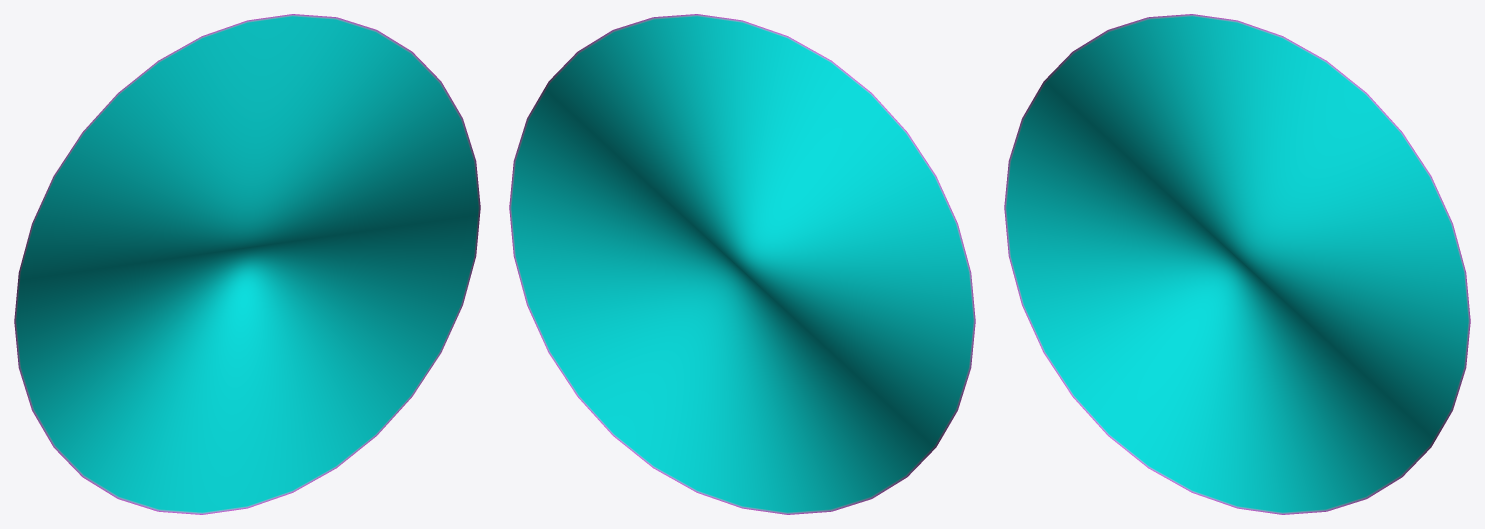
File: circleSP.fbx
The picture shows the model from 3 angles, left to right: view 1: azimuth 30°, elevation 25°; view 2: azimuth 150°, elevation 25°; view 3: azimuth 330°, elevation 25°; orthographic projection.
Visible parts, largest first — view 1: CircleSP; view 2: CircleSP; view 3: CircleSP.
Boxes of the visible parts, x1,y1,x2,y2 form: CircleSP: (14,14,480,514); CircleSP: (509,14,975,514); CircleSP: (1004,14,1470,514).
Bounding box in the file's own units: 2.02 × 2.02 × 0.
